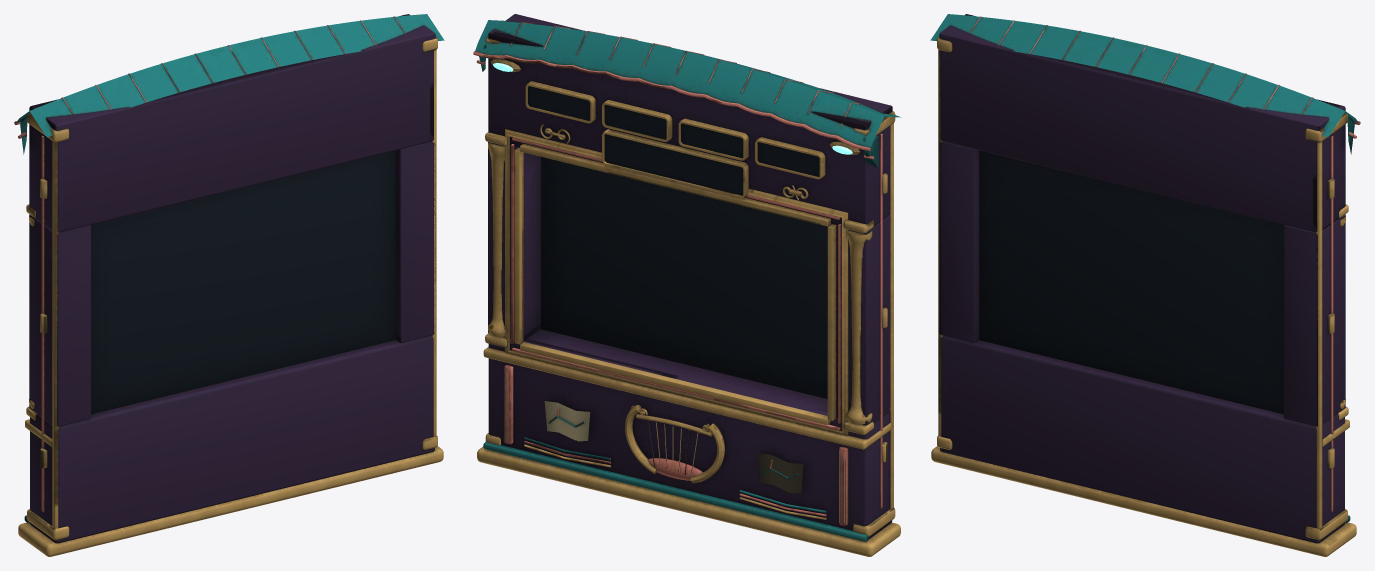
3 views of the same model, side by side, from view 1: azimuth 30°, elevation 25°; view 2: azimuth 150°, elevation 25°; view 3: azimuth 330°, elevation 25° (orthographic).
Visible parts, largest first — view 1: Violet_leather_case, Dark_display_enamel, Teal_canopy_canvas, Guild_satin_brass, Coral_binding; view 2: Violet_leather_case, Dark_display_enamel, Guild_satin_brass, Teal_canopy_canvas, Coral_binding, Warm_folded_paper; view 3: Violet_leather_case, Dark_display_enamel, Teal_canopy_canvas, Guild_satin_brass, Coral_binding.
Part boxes in pixels (<box>): Violet_leather_case: <box>29,14,435,543</box>; Dark_display_enamel: <box>90,150,395,414</box>; Teal_canopy_canvas: <box>16,14,444,522</box>; Guild_satin_brass: <box>18,37,443,556</box>; Coral_binding: <box>14,16,405,512</box>; Violet_leather_case: <box>488,14,892,538</box>; Dark_display_enamel: <box>528,86,831,398</box>; Guild_satin_brass: <box>477,37,900,556</box>; Teal_canopy_canvas: <box>475,20,901,541</box>; Coral_binding: <box>473,22,882,525</box>; Warm_folded_paper: <box>504,369,844,523</box>; Violet_leather_case: <box>939,14,1345,543</box>; Dark_display_enamel: <box>979,150,1284,414</box>; Teal_canopy_canvas: <box>930,14,1358,522</box>; Guild_satin_brass: <box>931,37,1356,556</box>; Coral_binding: <box>969,16,1360,512</box>.
Size of the model in its own units: 8.86 by 9.57 by 1.29.
Materials: 7 (6 with a texture image).
